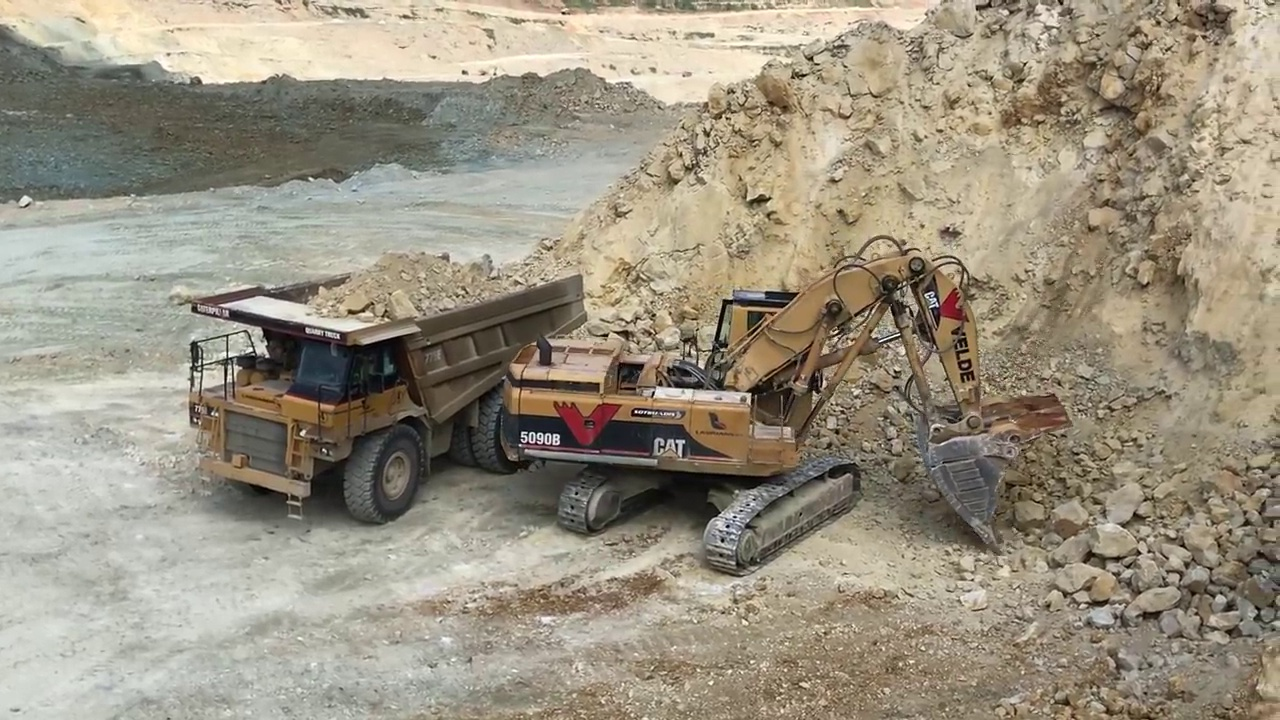truck: (181, 251, 589, 524)
wheel loader: (500, 237, 1078, 579)
